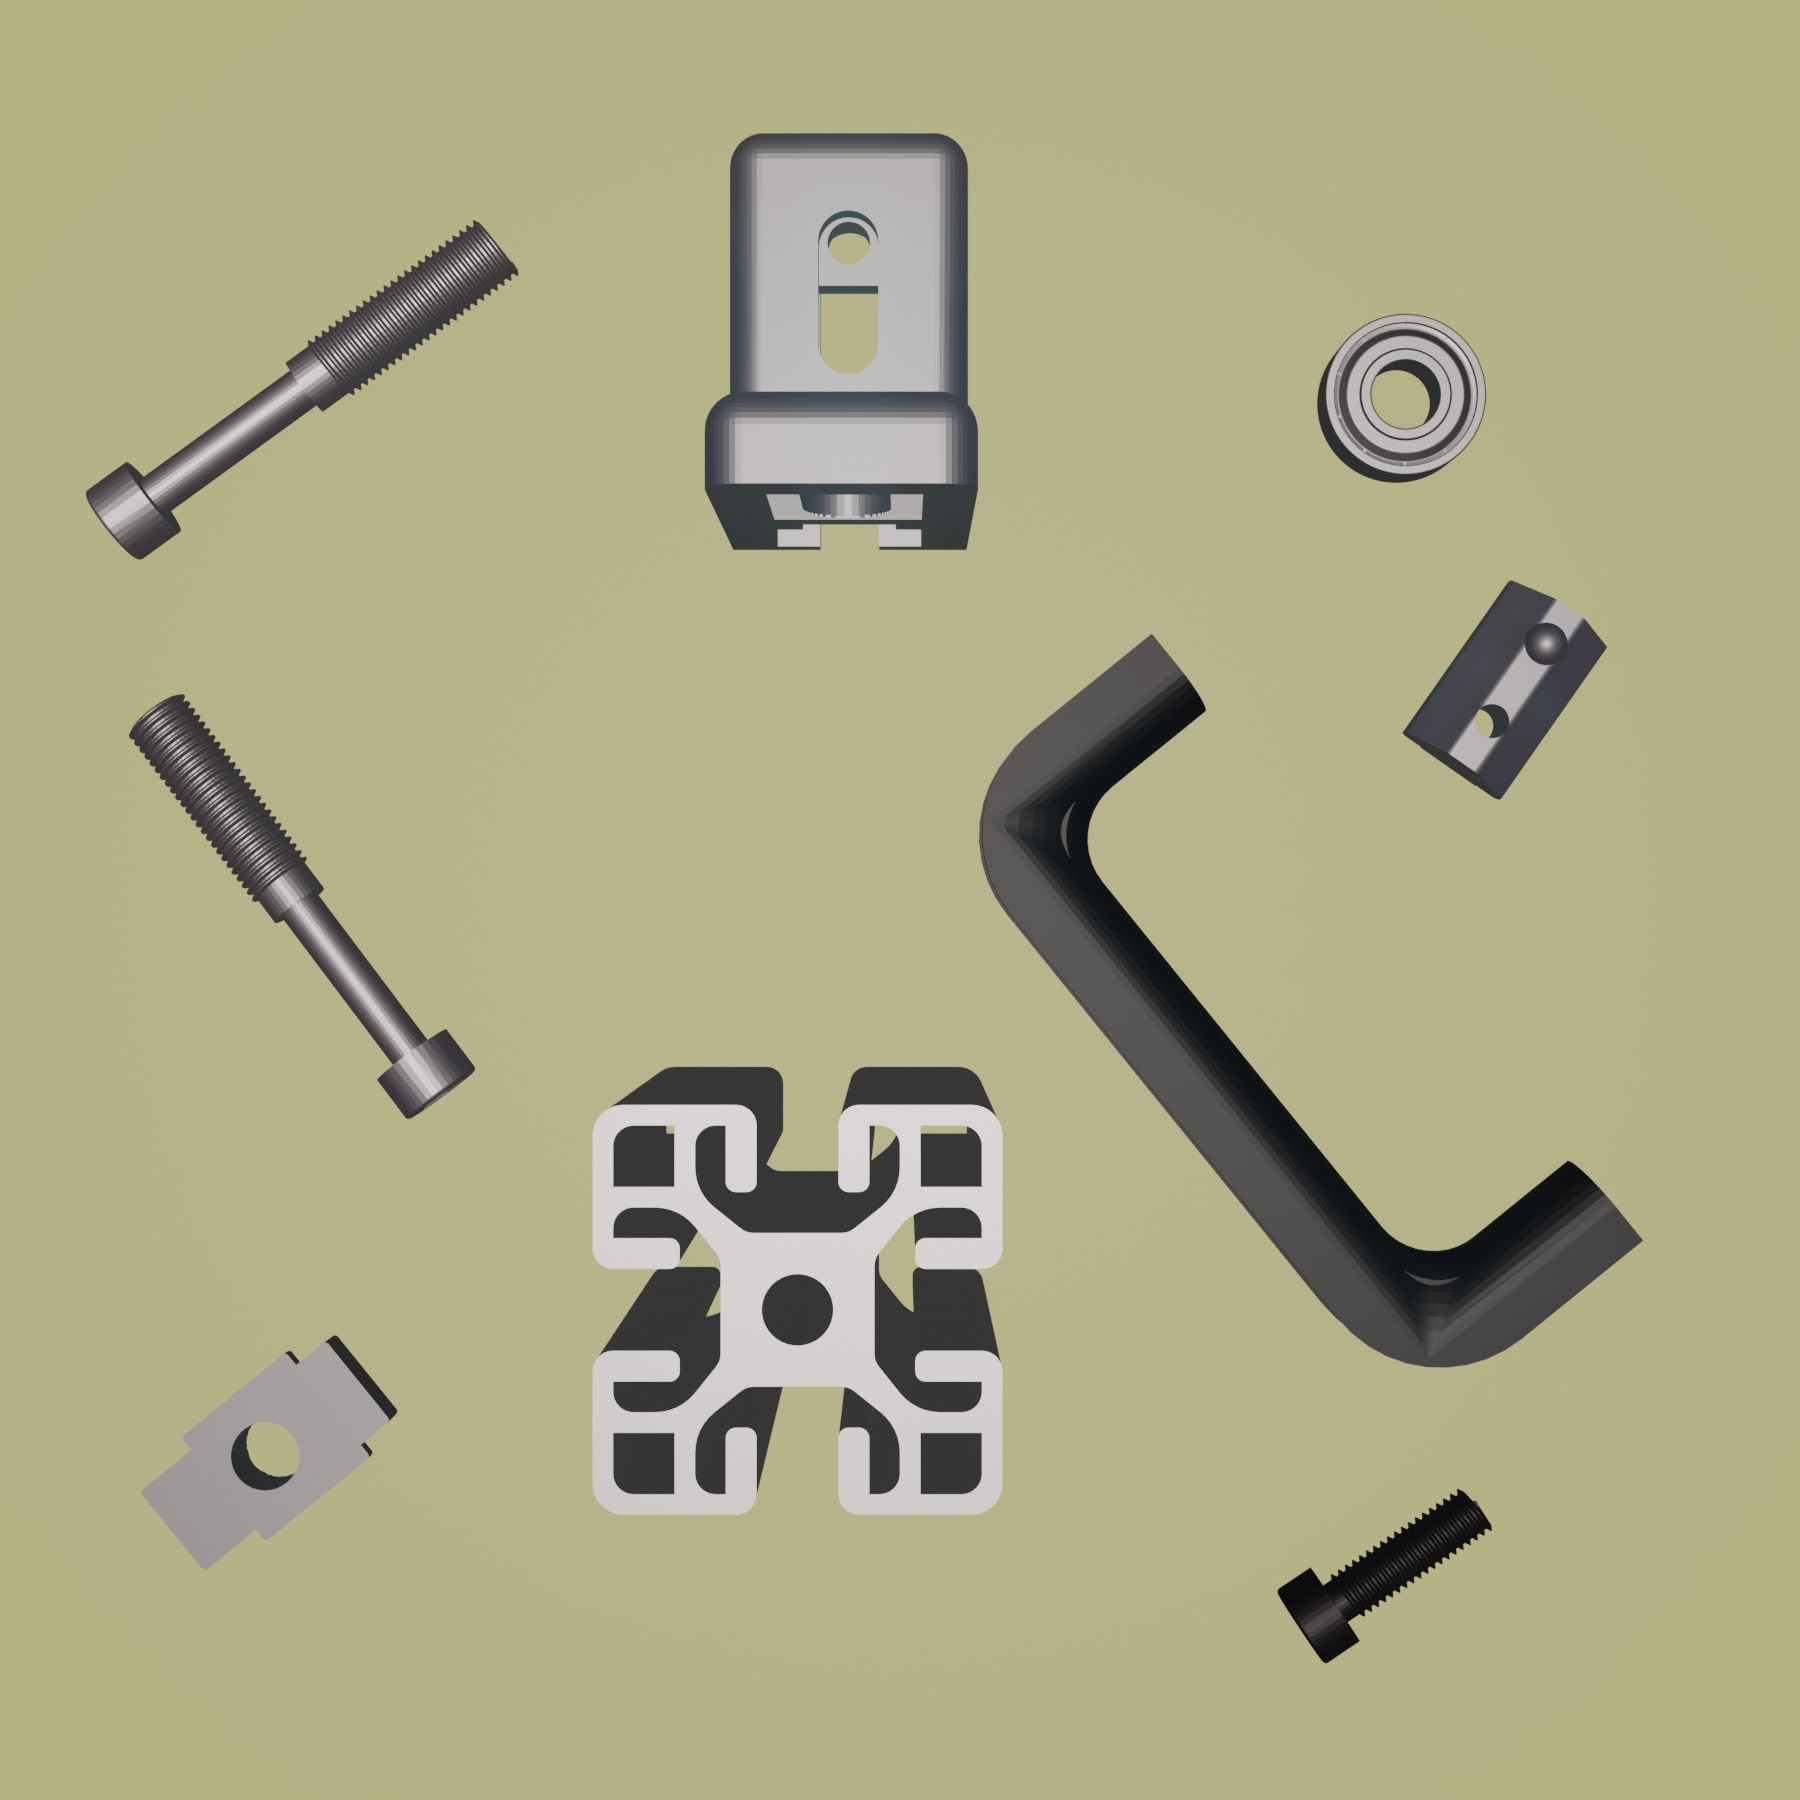Aluminium Extension: (587, 1062, 1009, 1521)
Ball Bearing: (1315, 312, 1490, 485)
Multiwinkel: (702, 130, 982, 552)
Pull Handle: (976, 630, 1643, 1370)
Shoulder Socket Head Cap Screw: (86, 216, 523, 562), (127, 691, 476, 1119)
Socket Head Cap Screw: (1276, 1487, 1493, 1665)
T Nut Square: (143, 1329, 401, 1573)
T Spring Nut: (1401, 575, 1610, 803)
